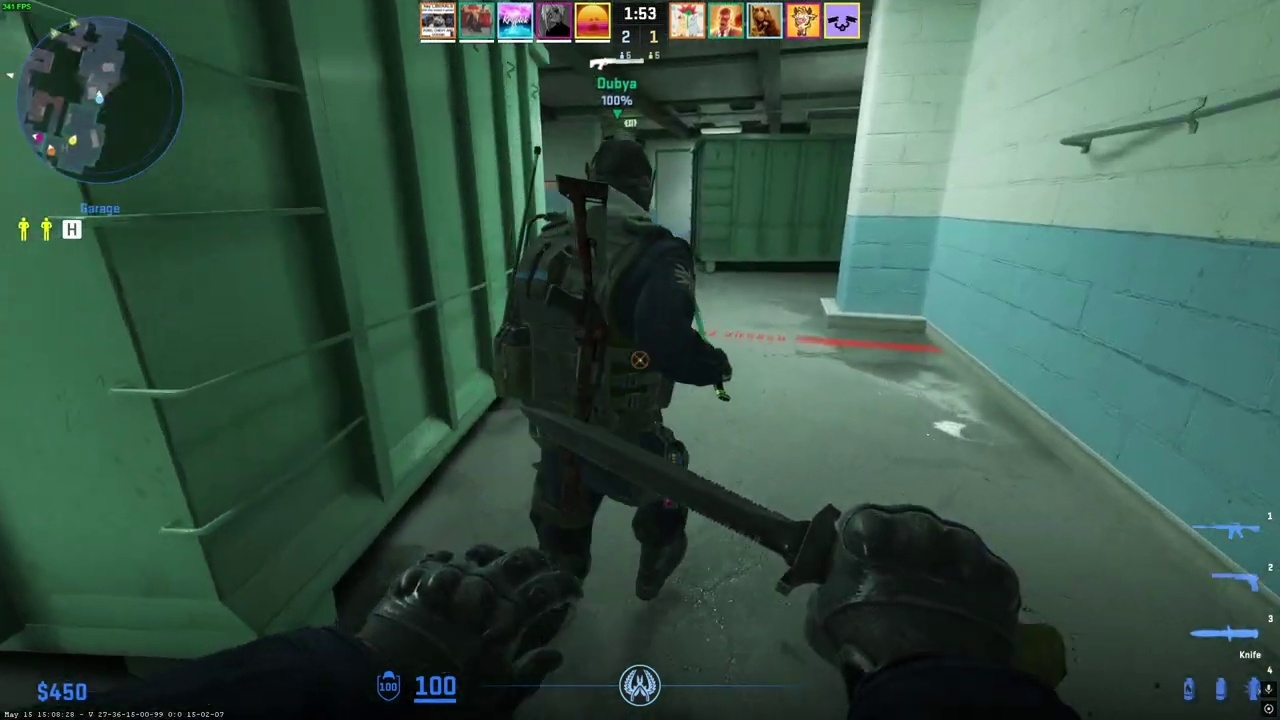CT: (506, 135, 703, 613)
